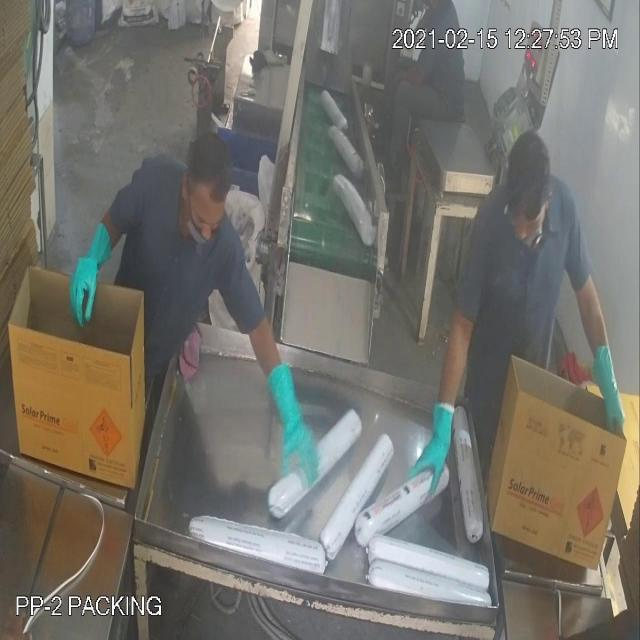Gloves: (52, 136, 606, 450)
